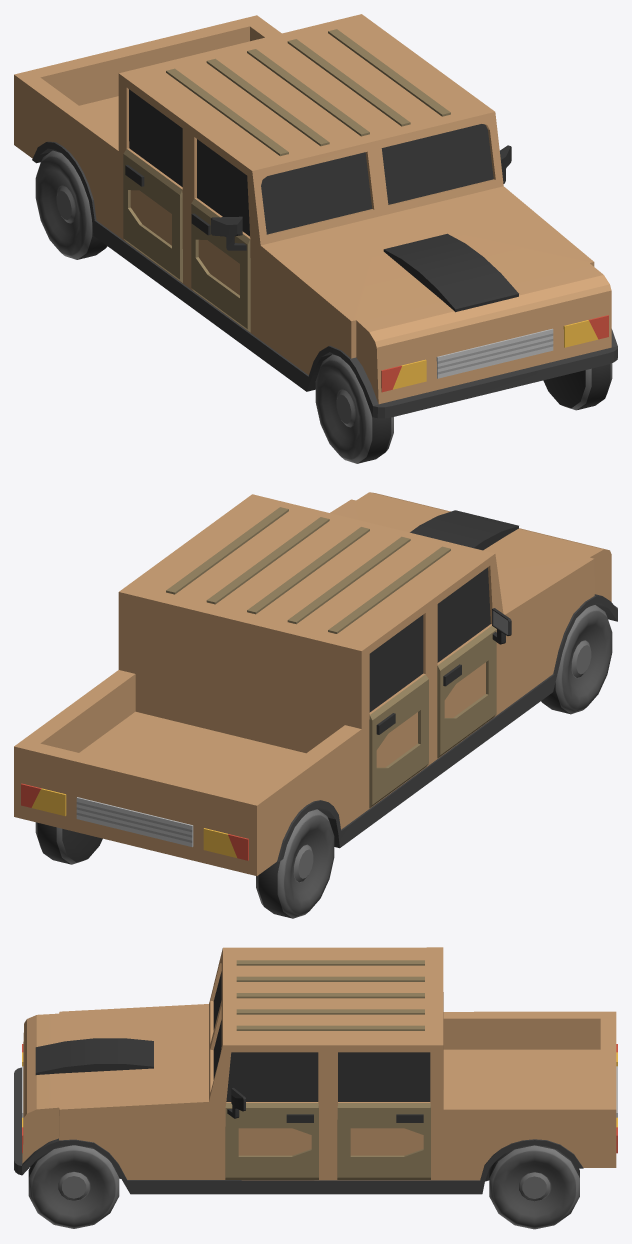
File: jeep02_color01.fbx
3 renders of one model, top to bottom at view 1: azimuth 30°, elevation 25°; view 2: azimuth 150°, elevation 25°; view 3: azimuth 270°, elevation 25°, orthographic. The views are drawn at different scales.
Visible parts, largest first — view 1: Plane.032, Plane.004, Plane.035, Plane.001; view 2: Plane.032, Plane.035, Plane.004, Plane.002; view 3: Plane.032, Plane.002, Plane.001.
Part boxes in pixels (bbox=[...]): Plane.032: bbox=[14, 14, 617, 418]; Plane.004: bbox=[315, 354, 393, 463]; Plane.035: bbox=[35, 150, 107, 259]; Plane.001: bbox=[543, 363, 612, 410]; Plane.032: bbox=[14, 492, 617, 875]; Plane.035: bbox=[256, 808, 334, 918]; Plane.004: bbox=[541, 604, 612, 714]; Plane.002: bbox=[35, 822, 102, 864]; Plane.032: bbox=[14, 947, 617, 1194]; Plane.002: bbox=[489, 1145, 579, 1229]; Plane.001: bbox=[28, 1145, 119, 1228].
Size of the model in its own units: 269 by 193 by 568.
